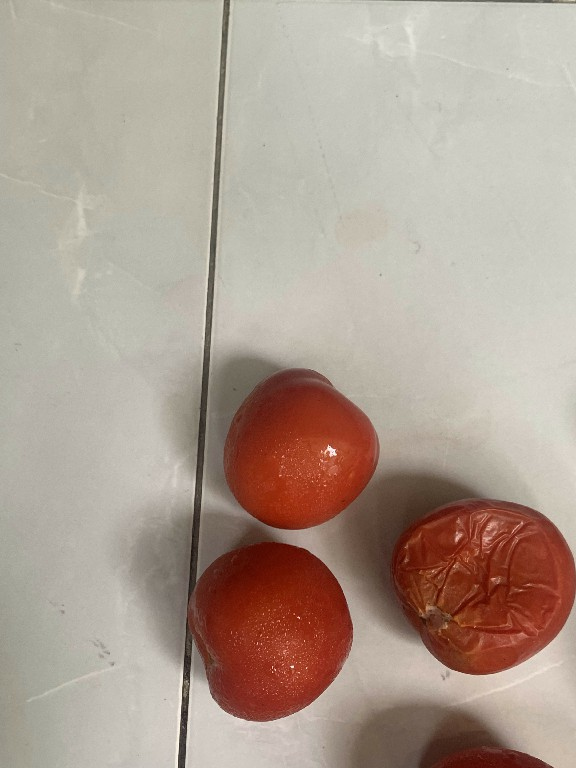NG: (377, 491, 575, 700)
OK: (181, 533, 359, 739), (211, 352, 381, 536)
